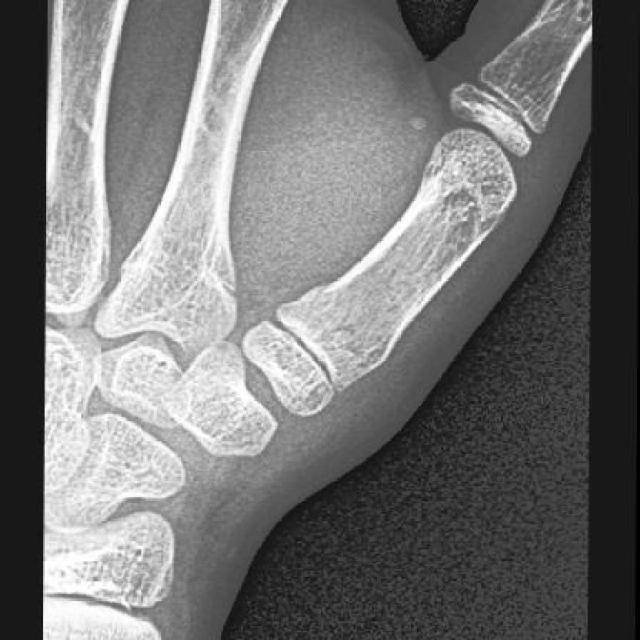Fracture: (297, 285, 407, 382)
